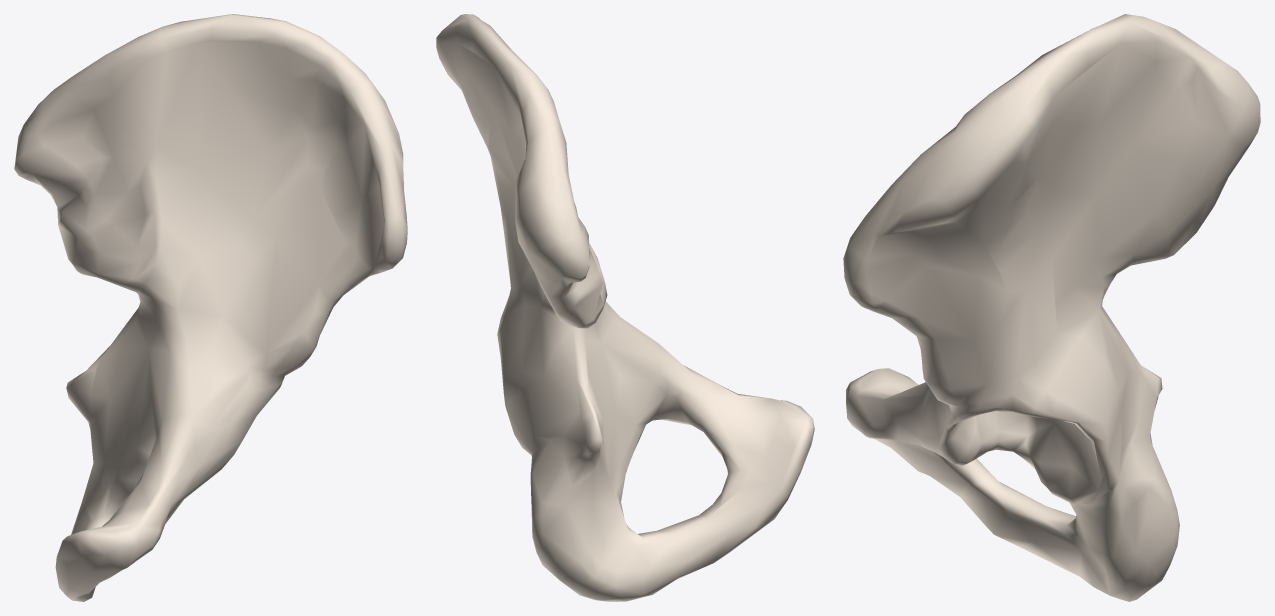
The model's file is left_coxal.glb.
3 renders of one model, left to right at view 1: azimuth 30°, elevation 25°; view 2: azimuth 150°, elevation 25°; view 3: azimuth 270°, elevation 25°, orthographic. The views are drawn at different scales.
Parts seen in each view (by area): view 1: Hip bone.r; view 2: Hip bone.r; view 3: Hip bone.r.
Part boxes in pixels (x1=…): Hip bone.r: x1=14, y1=14, x2=407, y2=601; Hip bone.r: x1=436, y1=14, x2=814, y2=601; Hip bone.r: x1=843, y1=14, x2=1260, y2=601.
Size of the model in its own units: 0.1212 by 0.1797 by 0.1059.
